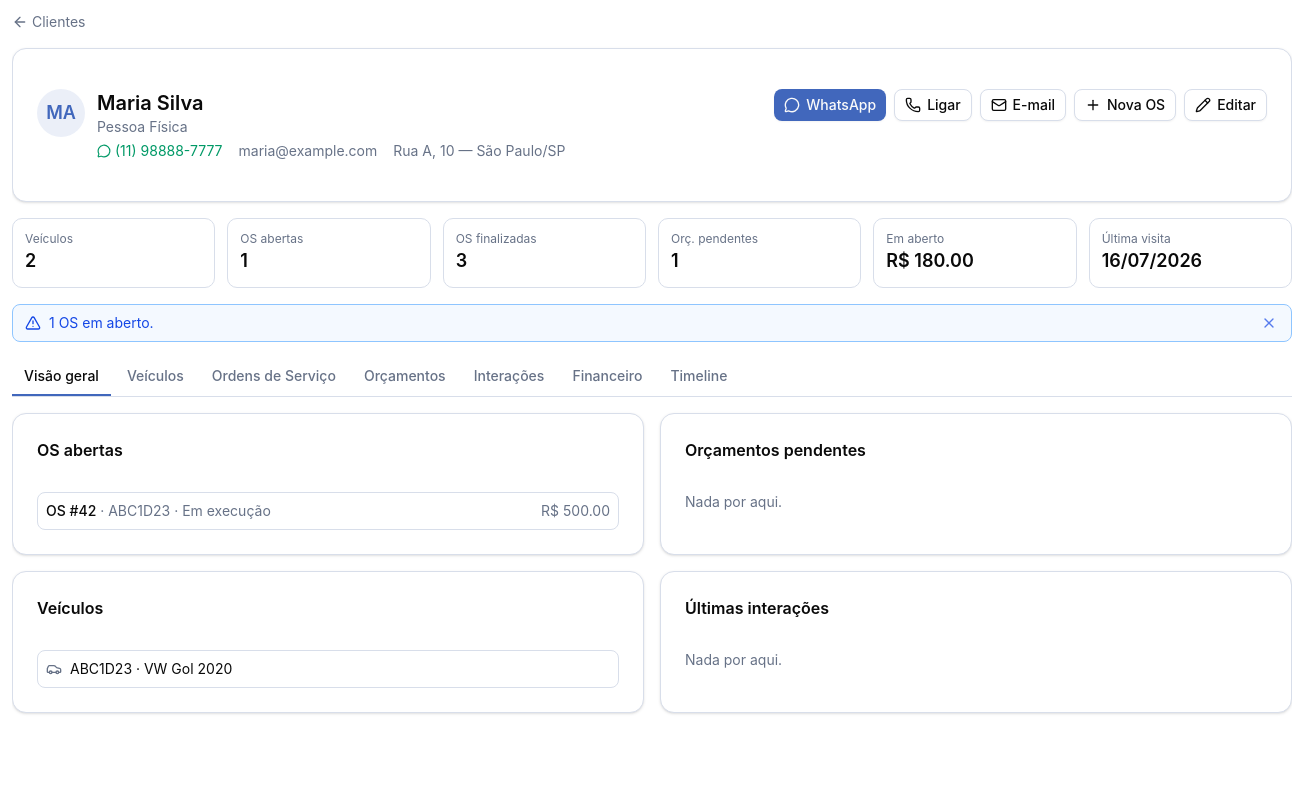
Test: Cliente 360° › dismisses an alert (it stays hidden during the visit)
The width and height of the screenshot is (1292, 812).
Expected: the heading "Maria Silva" is shown, [97,91,204,115]
Expected: the text "1 OS em aberto." is shown, [49,314,154,331]
Step 1. Click the button named "Dispensar aviso" → (1269, 323), box [1259,313,1279,333]
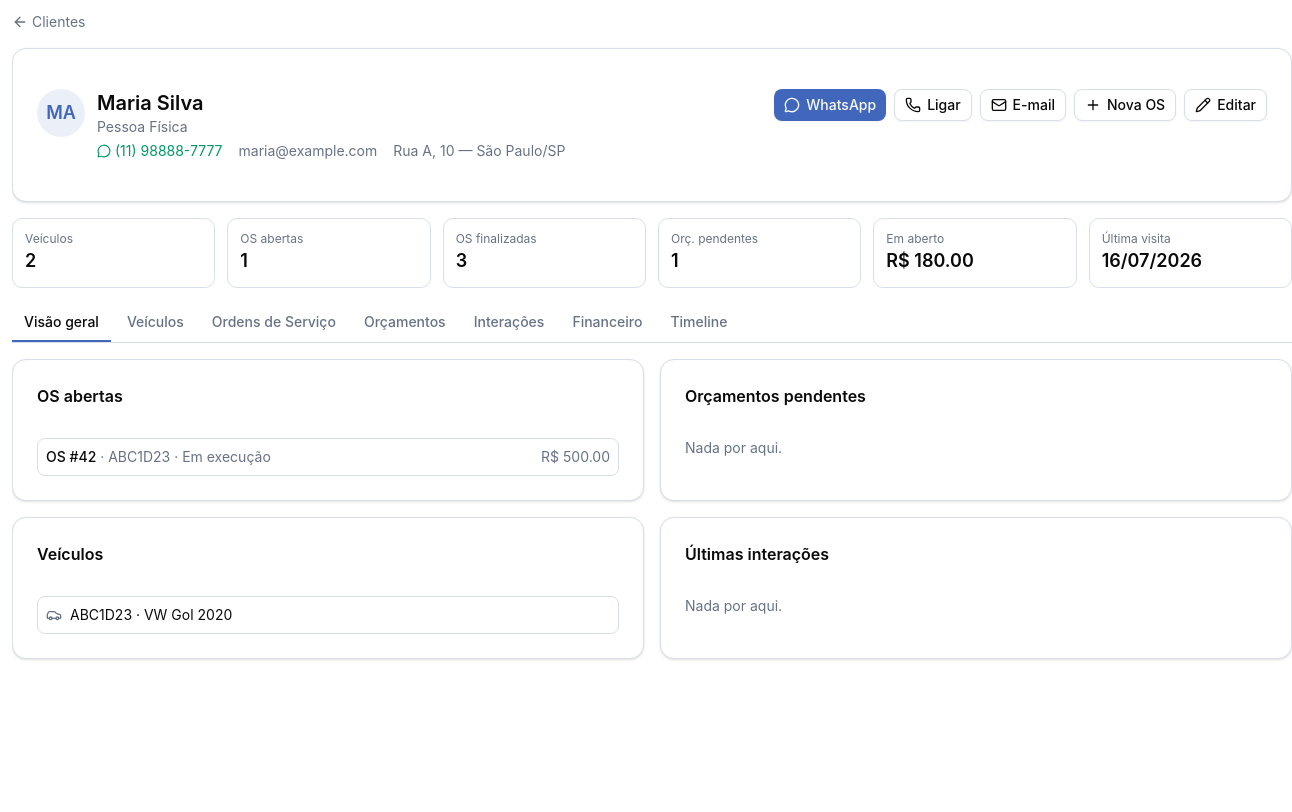
Result: the text "1 OS em aberto." is gone
